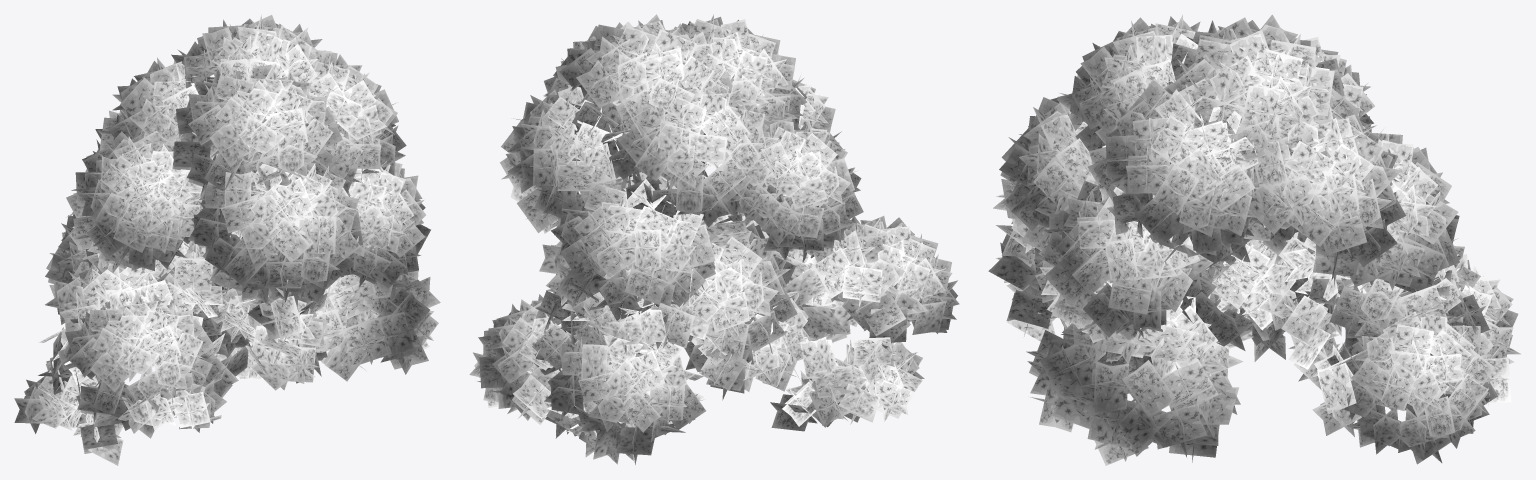
Rendered from TraditionalKoreanHouse_TreeLeafA01.fbx.
3 views of the same model, side by side, from view 1: azimuth 30°, elevation 25°; view 2: azimuth 150°, elevation 25°; view 3: azimuth 270°, elevation 25° (orthographic). The views are drawn at different scales.
Parts seen in each view (by area): view 1: TraditionalKoreanHouse_TreeLeafA01; view 2: TraditionalKoreanHouse_TreeLeafA01; view 3: TraditionalKoreanHouse_TreeLeafA01.
Part boxes in pixels (x1,y1,x2,y2): TraditionalKoreanHouse_TreeLeafA01: (14,14,440,465); TraditionalKoreanHouse_TreeLeafA01: (469,14,959,464); TraditionalKoreanHouse_TreeLeafA01: (988,14,1520,465).
Bounding box in the file's own units: 628 × 561 × 648.
